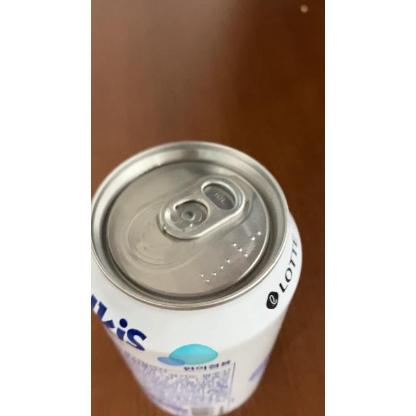Can: (93, 136, 305, 414)
